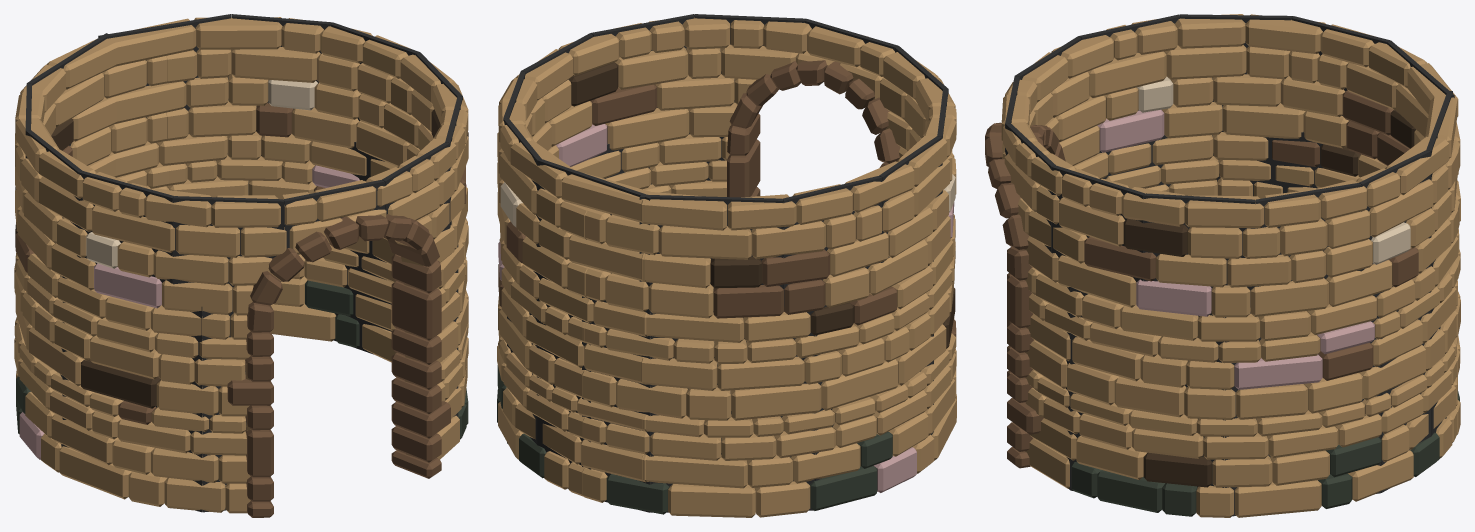
File: tower-doorway-opt.glb
3 renders of one model, left to right at view 1: azimuth 30°, elevation 25°; view 2: azimuth 150°, elevation 25°; view 3: azimuth 270°, elevation 25°, orthographic.
Bounding box in the file's own units: 2 × 1.51 × 2.06.
